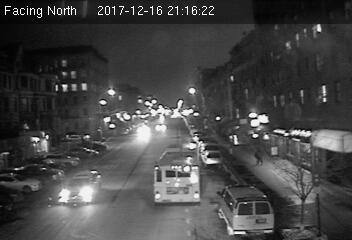bus: (153, 142, 202, 205)
car: (58, 169, 103, 205), (202, 149, 223, 166)
police: (217, 182, 274, 236)
